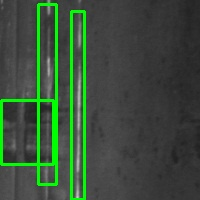inclusion: (1, 100, 53, 164), (12, 1, 25, 91)
scratches: (38, 4, 56, 184), (71, 11, 84, 199)
